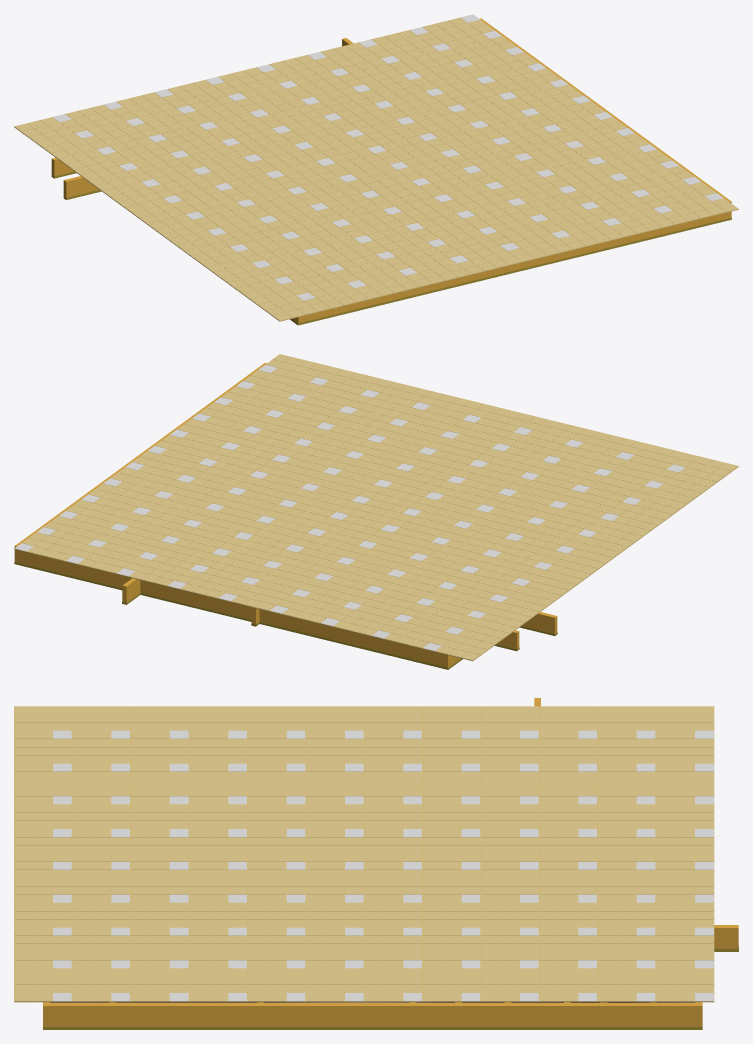
The model's file is BackroomsMAP_For_Unity.fbx.
The picture shows the model from 3 angles, top to bottom: view 1: azimuth 30°, elevation 25°; view 2: azimuth 150°, elevation 25°; view 3: azimuth 270°, elevation 25°; orthographic projection. The views are drawn at different scales.
Visible parts, largest first — view 1: Cube.151, Cube.114; view 2: Cube.151, Cube.034, Cube.030, Cube.031, Cube.036, Cube.037, Cube.039, Cube.038, Cube.032, Cube.114, Cube.033; view 3: Cube.151, Cube, Cube.001, Cube.009, Cube.003, Cube.004, Cube.006, Cube.005, Cube.007, Cube.008, Cube.002, Cube.097 (+1 smaller).
Part boxes in pixels (x1=…): Cube.151: x1=14, y1=14, x2=738, y2=321; Cube.114: x1=63, y1=176, x2=101, y2=199; Cube.151: x1=14, y1=354, x2=738, y2=661; Cube.034: x1=274, y1=613, x2=318, y2=637; Cube.030: x1=318, y1=623, x2=361, y2=648; Cube.031: x1=361, y1=634, x2=404, y2=659; Cube.036: x1=144, y1=581, x2=187, y2=606; Cube.037: x1=188, y1=592, x2=231, y2=616; Cube.039: x1=58, y1=560, x2=101, y2=584; Cube.038: x1=14, y1=544, x2=57, y2=574; Cube.032: x1=404, y1=644, x2=448, y2=669; Cube.114: x1=519, y1=612, x2=557, y2=635; Cube.033: x1=231, y1=602, x2=274, y2=627; Cube.151: x1=14, y1=706, x2=714, y2=1002; Cube: x1=504, y1=1003, x2=570, y2=1029; Cube.001: x1=570, y1=1003, x2=636, y2=1029; Cube.009: x1=109, y1=1003, x2=175, y2=1029; Cube.003: x1=175, y1=1003, x2=241, y2=1029; Cube.004: x1=372, y1=1003, x2=438, y2=1029; Cube.006: x1=241, y1=1003, x2=307, y2=1029; Cube.005: x1=439, y1=1003, x2=504, y2=1029; Cube.007: x1=307, y1=1003, x2=372, y2=1029; Cube.008: x1=43, y1=1003, x2=109, y2=1029; Cube.002: x1=636, y1=1003, x2=702, y2=1029; Cube.097: x1=714, y1=925, x2=738, y2=951.
Size of the model in its own units: 22114 by 880 by 21996.
